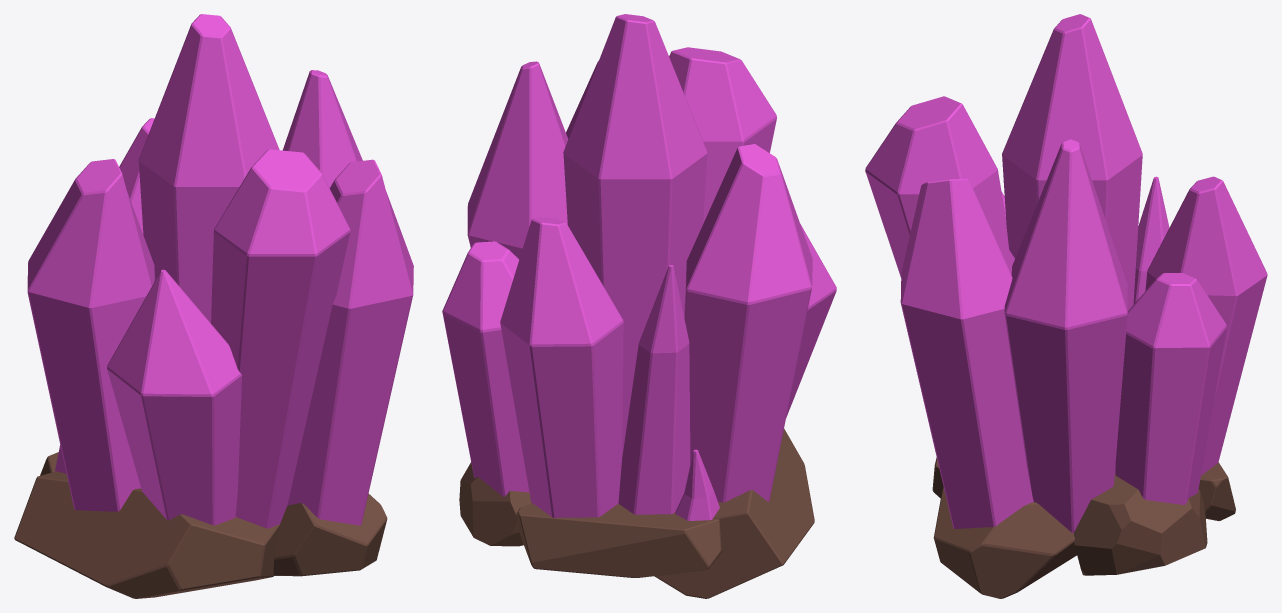
The model's file is Crystals_Version_C_Base_UVs.fbx.
The picture shows the model from 3 angles, left to right: view 1: azimuth 30°, elevation 25°; view 2: azimuth 150°, elevation 25°; view 3: azimuth 270°, elevation 25°; orthographic projection. The views are drawn at different scales.
Parts seen in each view (by area): view 1: SM_Crystal_Main.004; view 2: SM_Crystal_Main.004; view 3: SM_Crystal_Main.004.
Boxes of the visible parts, x1,y1,x2,y2 form: SM_Crystal_Main.004: (14, 14, 413, 598); SM_Crystal_Main.004: (442, 14, 836, 598); SM_Crystal_Main.004: (865, 14, 1267, 598).
Size of the model in its own units: 274 by 405 by 279.
